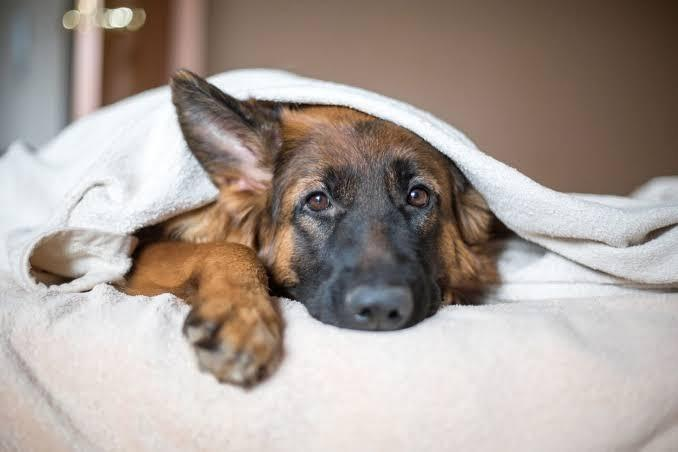adult_dog: (117, 69, 511, 391)
